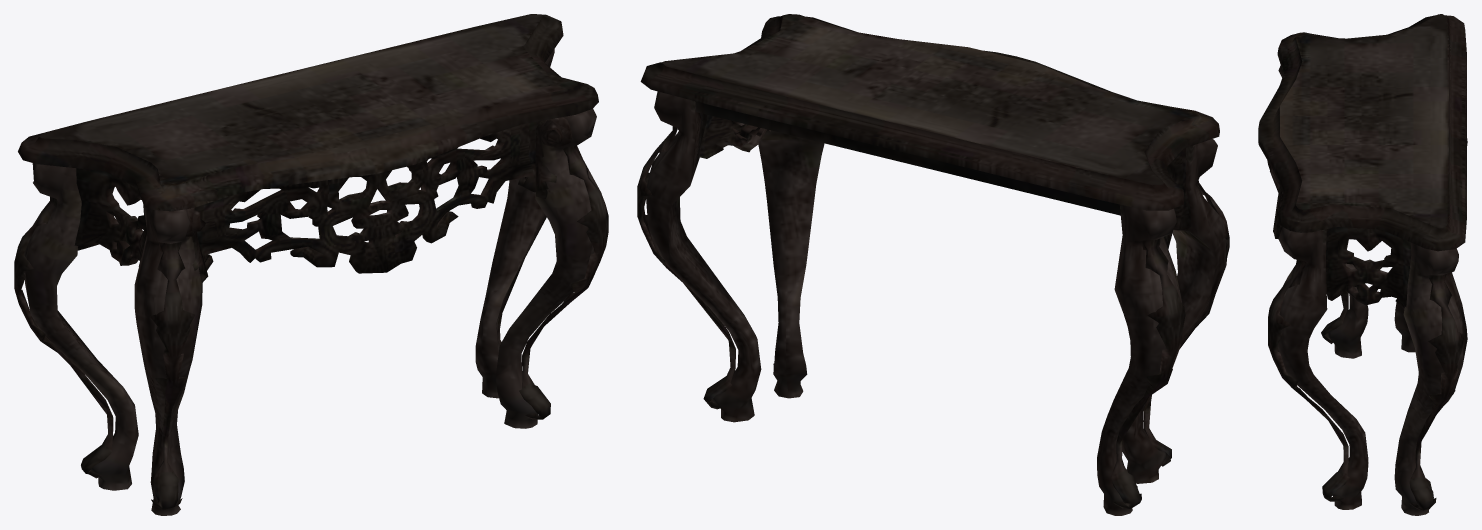
File: console_table.glb
3 renders of one model, left to right at view 1: azimuth 30°, elevation 25°; view 2: azimuth 150°, elevation 25°; view 3: azimuth 270°, elevation 25°, orthographic. The views are drawn at different scales.
Visible parts, largest first — view 1: ClassicConsole_01; view 2: ClassicConsole_01; view 3: ClassicConsole_01.
Boxes of the visible parts, x1,y1,x2,y2 form: ClassicConsole_01: (14,14,608,515); ClassicConsole_01: (637,14,1229,515); ClassicConsole_01: (1258,14,1467,515).
Bounding box in the file's own units: 1.54 × 0.9491 × 0.5859.
1 material, 1 textured.
